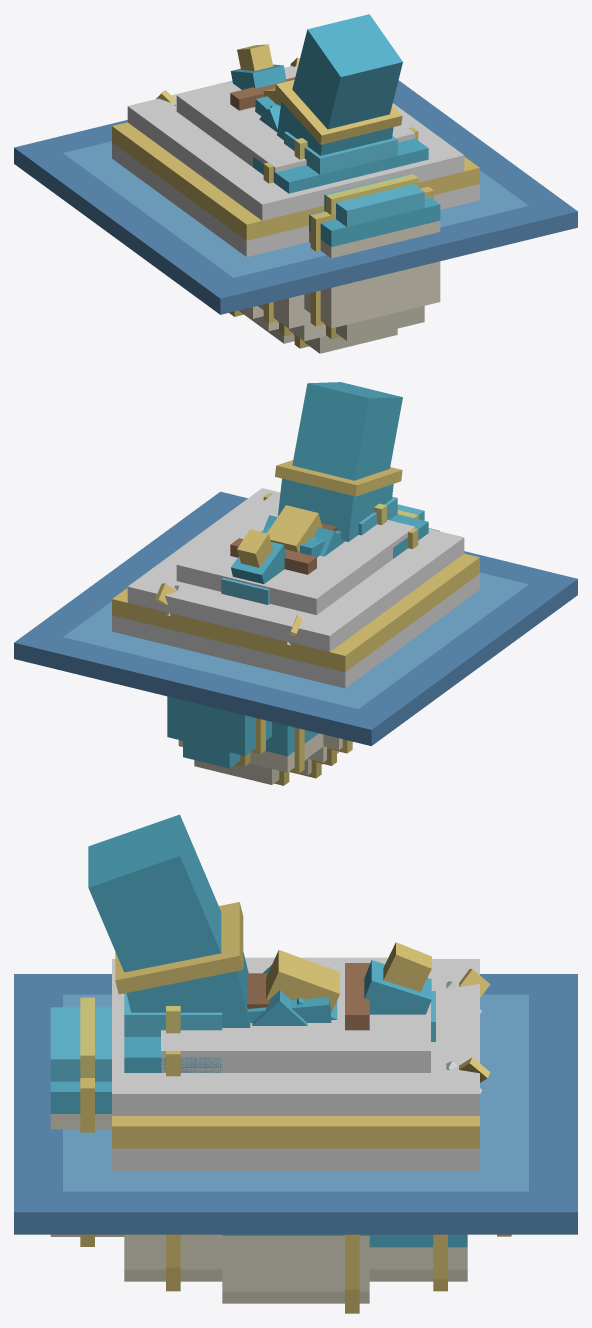
The model's file is Trainer4.glb.
3 views of the same model, one above another, from view 1: azimuth 30°, elevation 25°; view 2: azimuth 150°, elevation 25°; view 3: azimuth 270°, elevation 25° (orthographic). The views are drawn at different scales.
Visible parts, largest first — view 1: Stand, Body, Head; view 2: Stand, Body, Head, Fin, T1; view 3: Stand, Body, Head, Fin, T1, T2.
Part boxes in pixels (x1,y1,x2,y2): Stand: (14, 66, 577, 314); Body: (229, 14, 440, 353); Head: (156, 44, 299, 105); Stand: (14, 488, 577, 745); Body: (167, 382, 439, 785); Head: (155, 529, 305, 645); Fin: (267, 505, 322, 552); T1: (263, 515, 344, 556); Stand: (14, 957, 577, 1234); Body: (50, 814, 511, 1313); Head: (364, 942, 490, 1093); Fin: (266, 950, 339, 1012); T1: (252, 965, 307, 1025); T2: (247, 967, 331, 1022).
Size of the model in its own units: 9.2 by 8.09 by 9.2.
